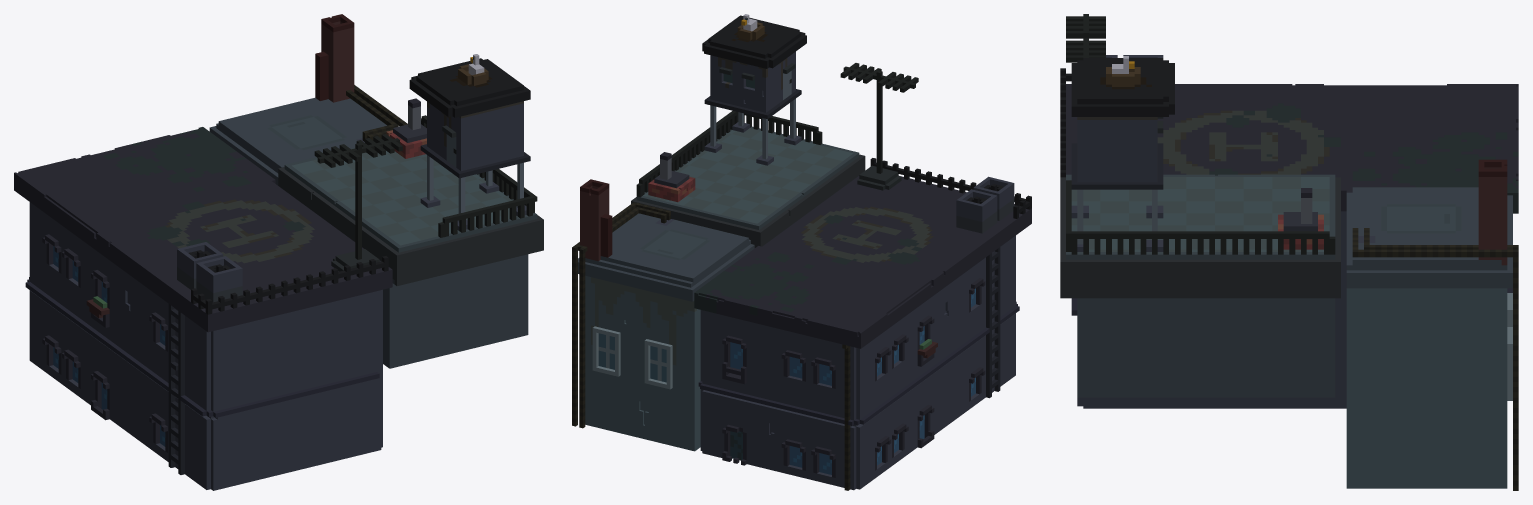
File: map2_big.obj
3 views of the same model, side by side, from view 1: azimuth 30°, elevation 25°; view 2: azimuth 150°, elevation 25°; view 3: azimuth 270°, elevation 25° (orthographic). The views are drawn at different scales.
Bounding box in the file's own units: 16 × 16 × 16.
1 material, 1 textured.
